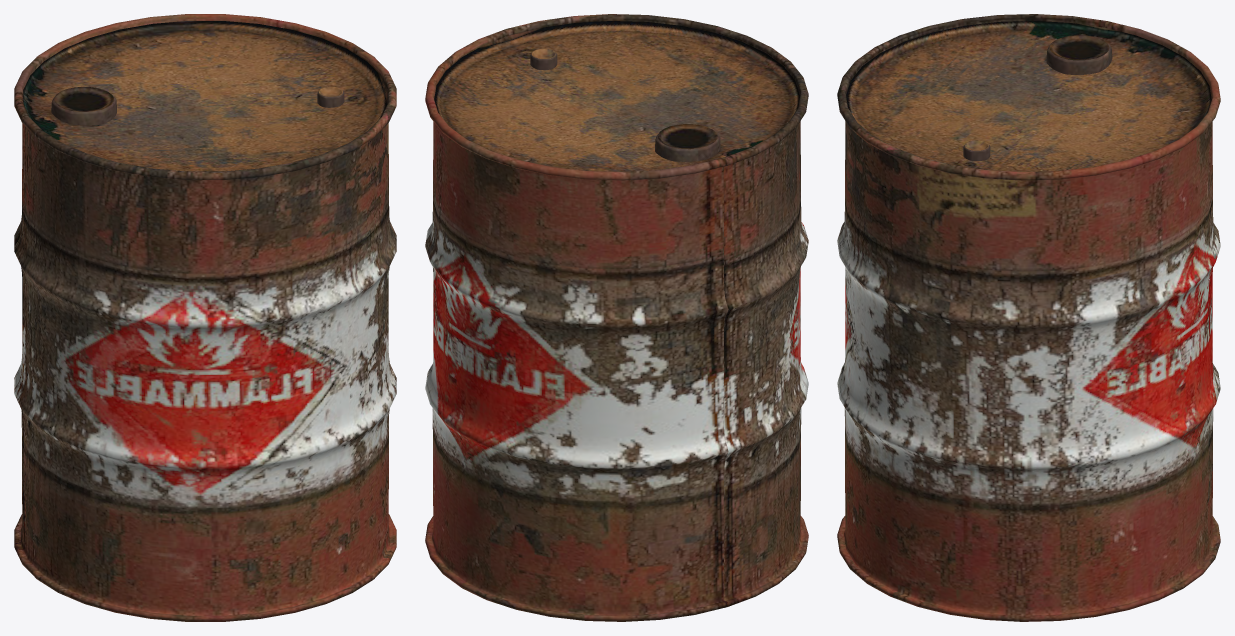
File: barril_placeholder_hl2.glb
3 renders of one model, left to right at view 1: azimuth 30°, elevation 25°; view 2: azimuth 150°, elevation 25°; view 3: azimuth 270°, elevation 25°, orthographic.
Visible parts, largest first — view 1: barrel_red; view 2: barrel_red; view 3: barrel_red.
Boxes of the visible parts, box(x1,y1,x2,y2) form: barrel_red: box(14, 14, 396, 621); barrel_red: box(425, 14, 808, 621); barrel_red: box(837, 14, 1220, 621).
Size of the model in its own units: 1.84 by 2.37 by 1.84.
1 material, 1 textured.
